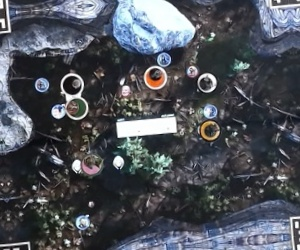black: (60, 72, 85, 98)
green: (65, 95, 90, 120)
orange: (144, 65, 169, 90)
pink_green: (80, 154, 105, 179)
white: (197, 70, 222, 95)
yellow_night_blue: (194, 118, 219, 143)
